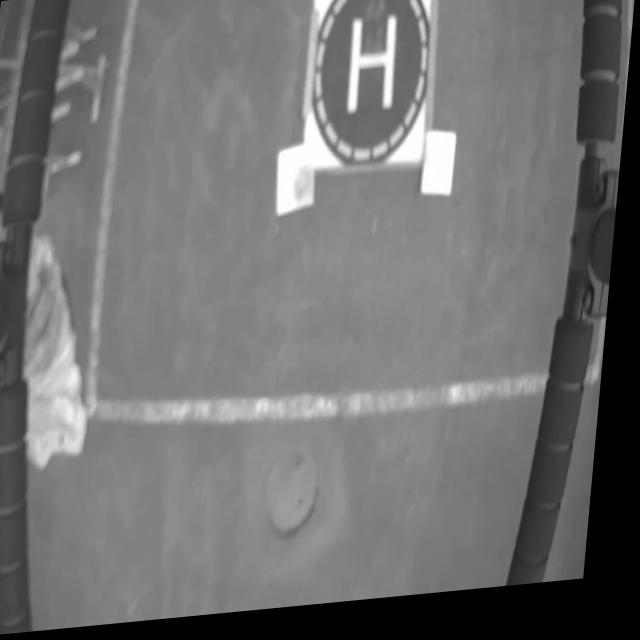Helipad: (348, 19, 399, 120)
